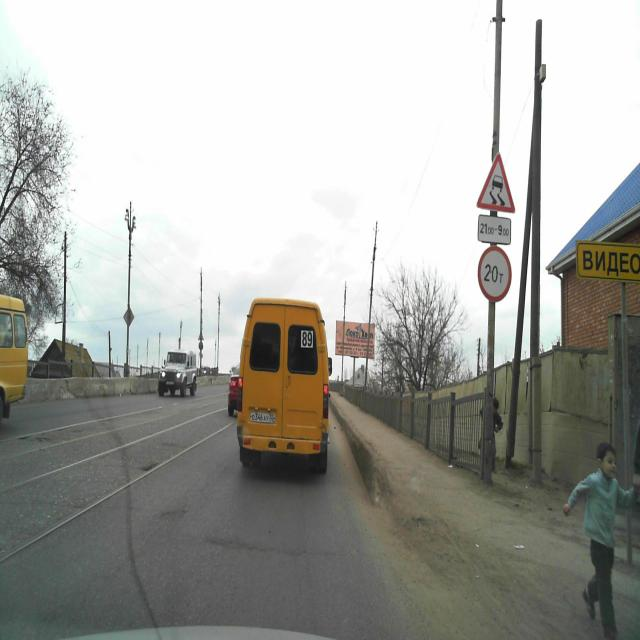road sign: (474, 153, 516, 214), (477, 215, 512, 246)
